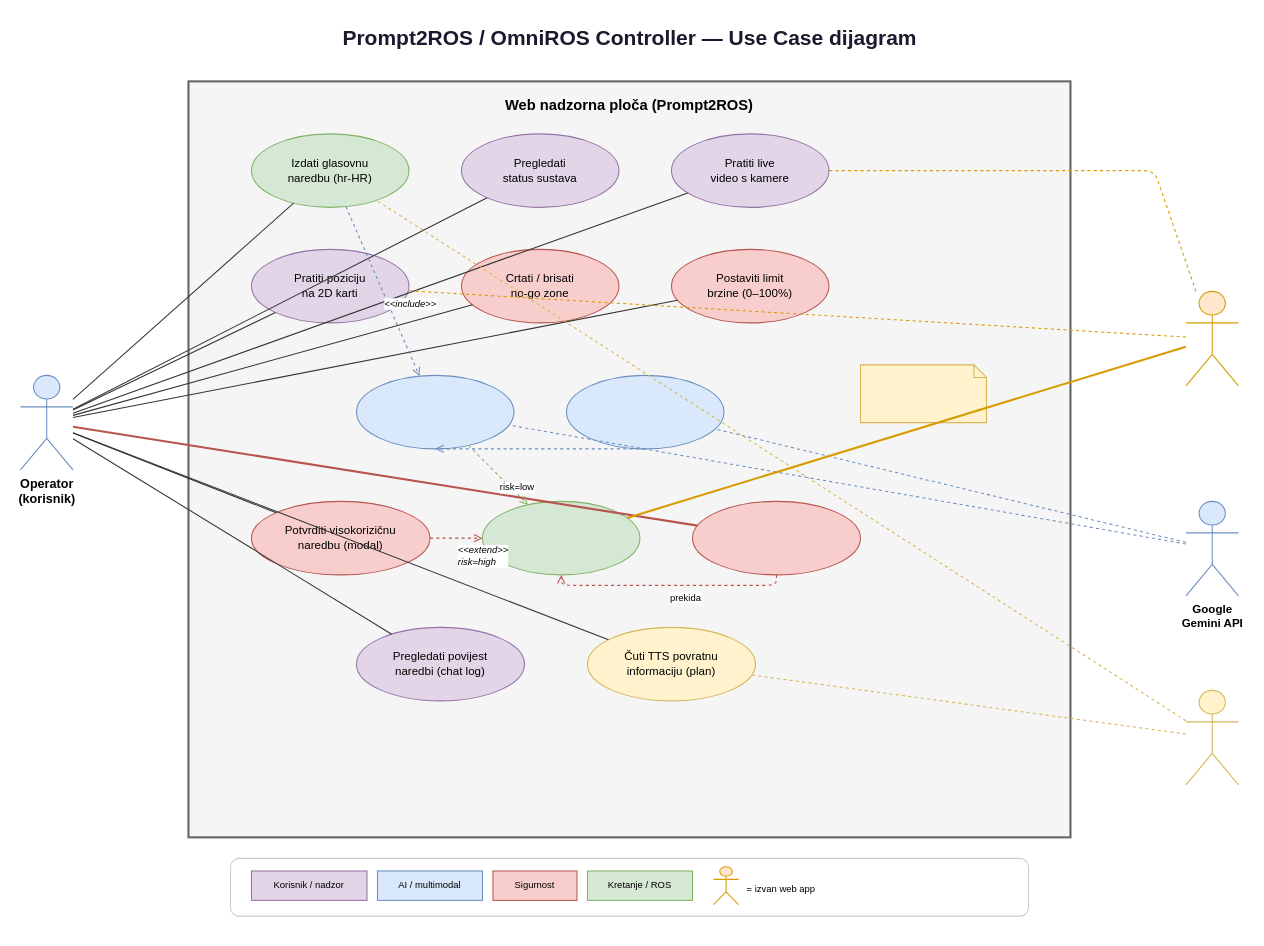
The diagram is 1264 pixels wide and 946 high, and some of its shapes have lost their labels. Here are the shapes that lost their labels. From the top down, the centre of each, then its label:
At (1211,338): "ROS robot (hardver)".
At (434,411): "Generirati plan kretanja (AI)".
At (644,411): "Postaviti pitanje o sceni (vizija)".
At (922,393): "<<include>> Snimanje kadra + poziv Gemini".
At (560,537): "Izvršiti kretanje (/cmd_vel)".
At (775,537): "Hitno zaustaviti (E-STOP / Escape)".
At (1211,737): "Web Speech (Chrome)".
At (725,885): "Vanjski akter".
